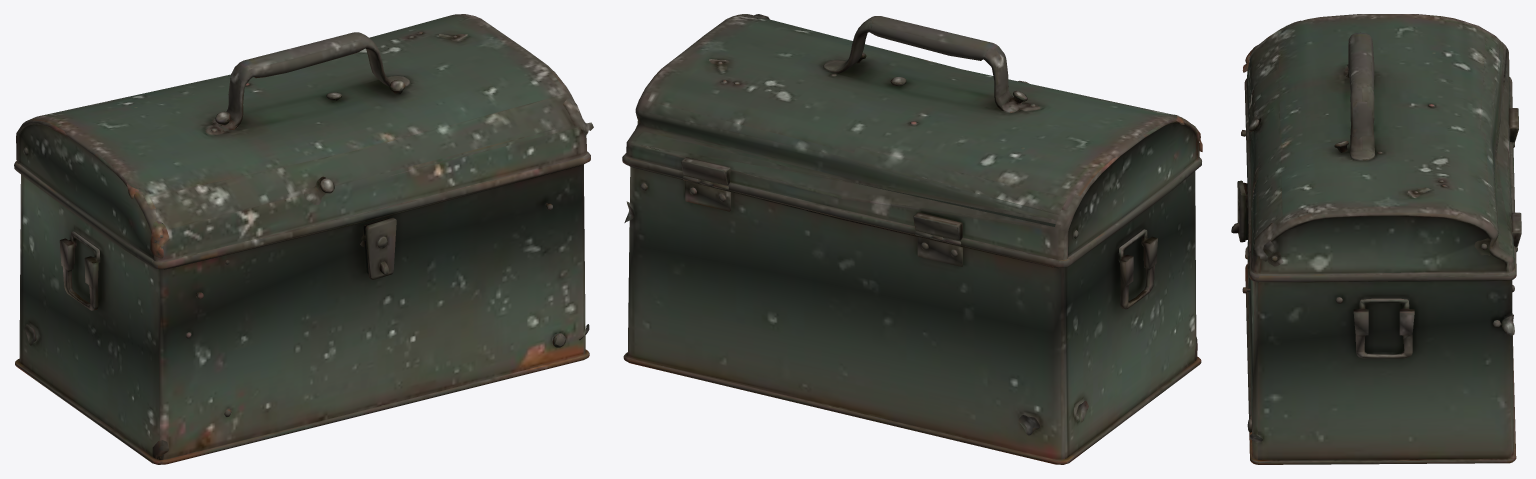
File: prop_toolbox.glb
3 views of the same model, side by side, from view 1: azimuth 30°, elevation 25°; view 2: azimuth 150°, elevation 25°; view 3: azimuth 270°, elevation 25° (orthographic). The views are drawn at different scales.
Parts seen in each view (by area): view 1: tripo_node_82f4bfbc-b926-4f0c-814d-948f8b7de8af; view 2: tripo_node_82f4bfbc-b926-4f0c-814d-948f8b7de8af; view 3: tripo_node_82f4bfbc-b926-4f0c-814d-948f8b7de8af.
Boxes of the visible parts, x1,y1,x2,y2 form: tripo_node_82f4bfbc-b926-4f0c-814d-948f8b7de8af: [14, 14, 593, 464]; tripo_node_82f4bfbc-b926-4f0c-814d-948f8b7de8af: [622, 14, 1202, 464]; tripo_node_82f4bfbc-b926-4f0c-814d-948f8b7de8af: [1231, 14, 1521, 464].
Bounding box in the file's own units: 0.45 × 0.3054 × 0.2651.
1 material, 1 textured.
